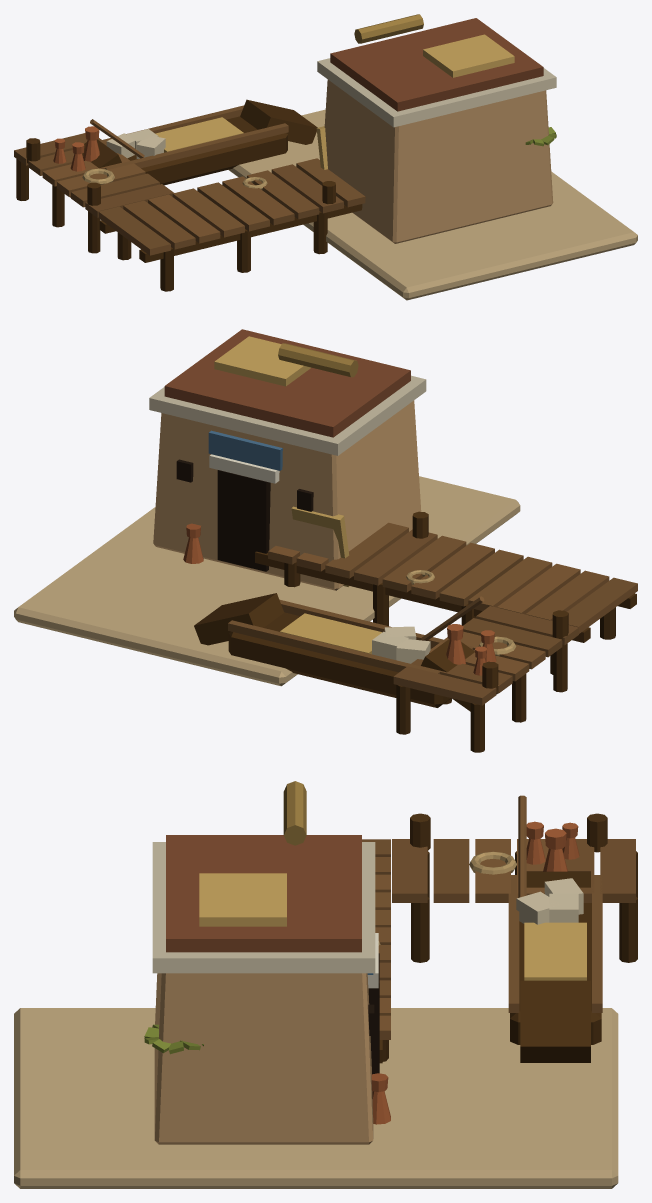
File: harbor.glb
3 renders of one model, top to bottom at view 1: azimuth 30°, elevation 25°; view 2: azimuth 150°, elevation 25°; view 3: azimuth 270°, elevation 25°, orthographic. The views are drawn at different scales.
Parts seen in each view (by area): view 1: harbor_mud_tan, harbor_wood_mid, harbor_sand_spit, harbor_wood_dark, harbor_mud_dark, harbor_thatch_mat, harbor_stone_pale, harbor_pottery, harbor_linen_pale, harbor_thatch_dark, harbor_rope_tan; view 2: harbor_sand_spit, harbor_wood_mid, harbor_mud_tan, harbor_wood_dark, harbor_mud_dark, harbor_thatch_mat, harbor_stone_pale, harbor_door_dark, harbor_pottery, harbor_nile_blue, harbor_linen_pale, harbor_thatch_dark (+1 smaller); view 3: harbor_sand_spit, harbor_mud_tan, harbor_mud_dark, harbor_wood_mid, harbor_wood_dark, harbor_thatch_mat, harbor_stone_pale, harbor_pottery, harbor_linen_pale, harbor_thatch_dark, harbor_door_dark, harbor_rope_tan (+1 smaller).
Part boxes in pixels (x1,y1,x2,y2): harbor_mud_tan: [324, 79, 553, 243]; harbor_wood_mid: [14, 105, 365, 255]; harbor_sand_spit: [228, 109, 637, 300]; harbor_wood_dark: [16, 99, 362, 291]; harbor_mud_dark: [330, 18, 543, 111]; harbor_thatch_mat: [155, 34, 514, 169]; harbor_stone_pale: [317, 58, 556, 127]; harbor_pottery: [53, 126, 99, 171]; harbor_linen_pale: [106, 129, 165, 158]; harbor_thatch_dark: [354, 14, 423, 43]; harbor_rope_tan: [82, 168, 267, 189]; harbor_sand_spit: [14, 476, 520, 686]; harbor_wood_mid: [228, 522, 637, 705]; harbor_mud_tan: [153, 400, 421, 590]; harbor_wood_dark: [194, 511, 636, 752]; harbor_mud_dark: [164, 329, 410, 437]; harbor_thatch_mat: [214, 336, 381, 654]; harbor_stone_pale: [149, 375, 426, 455]; harbor_door_dark: [176, 459, 313, 571]; harbor_pottery: [183, 523, 496, 675]; harbor_nile_blue: [208, 430, 282, 470]; harbor_linen_pale: [372, 626, 430, 663]; harbor_thatch_dark: [278, 343, 358, 377]; harbor_sand_spit: [14, 1008, 618, 1188]; harbor_mud_tan: [154, 973, 373, 1144]; harbor_mud_dark: [166, 835, 361, 952]; harbor_wood_mid: [362, 795, 635, 1039]; harbor_wood_dark: [379, 813, 637, 1063]; harbor_thatch_mat: [199, 873, 586, 980]; harbor_stone_pale: [152, 842, 375, 973]; harbor_pottery: [371, 821, 579, 1124]; harbor_linen_pale: [516, 878, 583, 924]; harbor_thatch_dark: [283, 781, 306, 845]; harbor_door_dark: [368, 953, 379, 1074]; harbor_rope_tan: [378, 851, 516, 945].
Size of the model in its own units: 3.35 by 1.53 by 3.
